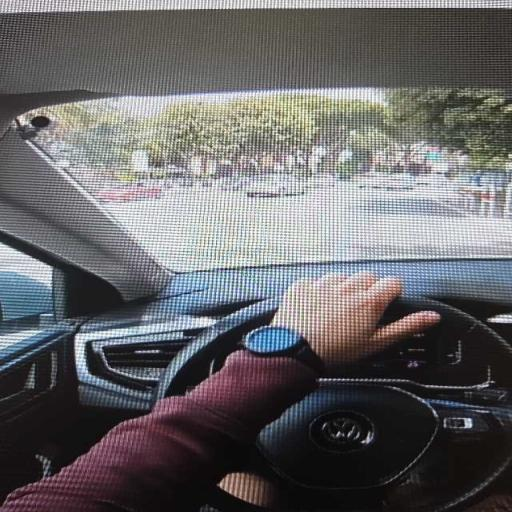car: (0, 0, 511, 511), (244, 176, 307, 197), (96, 183, 162, 201), (352, 172, 416, 190)
lane: (108, 186, 511, 270)
person: (0, 350, 319, 511)
